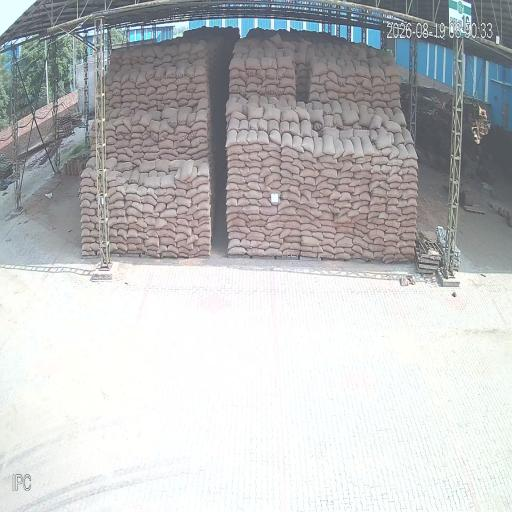Rice-bag-10: (350, 138, 364, 158), (375, 133, 391, 149), (361, 137, 374, 156), (169, 159, 187, 172), (323, 135, 334, 155), (302, 137, 314, 154), (192, 192, 209, 204), (192, 207, 209, 219), (313, 137, 323, 157), (301, 119, 312, 136), (343, 139, 354, 156), (334, 138, 343, 158), (196, 109, 207, 125), (398, 144, 409, 160), (293, 135, 303, 152), (228, 175, 245, 185), (81, 176, 95, 188), (406, 144, 417, 159), (237, 130, 248, 144), (270, 129, 281, 143), (227, 130, 236, 147), (160, 209, 177, 218), (227, 204, 242, 214), (228, 118, 240, 130), (247, 130, 258, 143), (258, 131, 269, 144), (193, 82, 206, 93), (388, 146, 399, 159), (282, 133, 292, 147), (197, 183, 209, 194), (227, 213, 240, 223), (268, 119, 278, 131), (249, 119, 259, 131), (290, 122, 299, 135), (81, 167, 92, 177), (380, 146, 391, 156), (227, 197, 237, 207), (81, 199, 92, 208), (280, 122, 289, 133), (240, 119, 249, 130), (198, 200, 209, 209), (259, 118, 267, 130), (178, 205, 188, 214), (81, 185, 92, 193), (81, 214, 92, 222), (118, 243, 126, 251), (129, 243, 137, 250)
other: (0, 181, 512, 511), (0, 0, 447, 44), (457, 101, 512, 270), (77, 11, 111, 270), (16, 36, 83, 130), (415, 88, 451, 230), (443, 38, 464, 277), (464, 49, 512, 130), (178, 18, 328, 37), (141, 253, 299, 267), (11, 49, 22, 212), (21, 154, 52, 209), (417, 41, 453, 85), (470, 31, 512, 65), (50, 37, 60, 171), (475, 0, 512, 30), (414, 232, 441, 272), (212, 192, 228, 258), (409, 34, 418, 141), (387, 38, 410, 68), (350, 27, 381, 48), (0, 182, 15, 222), (63, 129, 83, 156), (121, 26, 153, 42), (156, 23, 177, 41), (228, 255, 277, 260), (331, 25, 348, 38), (381, 28, 387, 49), (362, 28, 366, 43), (0, 227, 6, 237), (288, 257, 298, 259)
pile: (225, 32, 417, 262), (105, 24, 241, 253), (63, 119, 99, 255)
